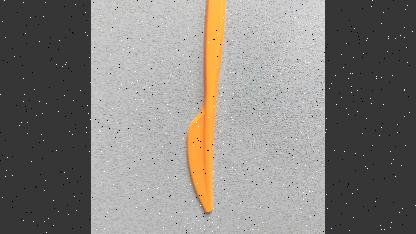Others: (183, 0, 236, 219)
